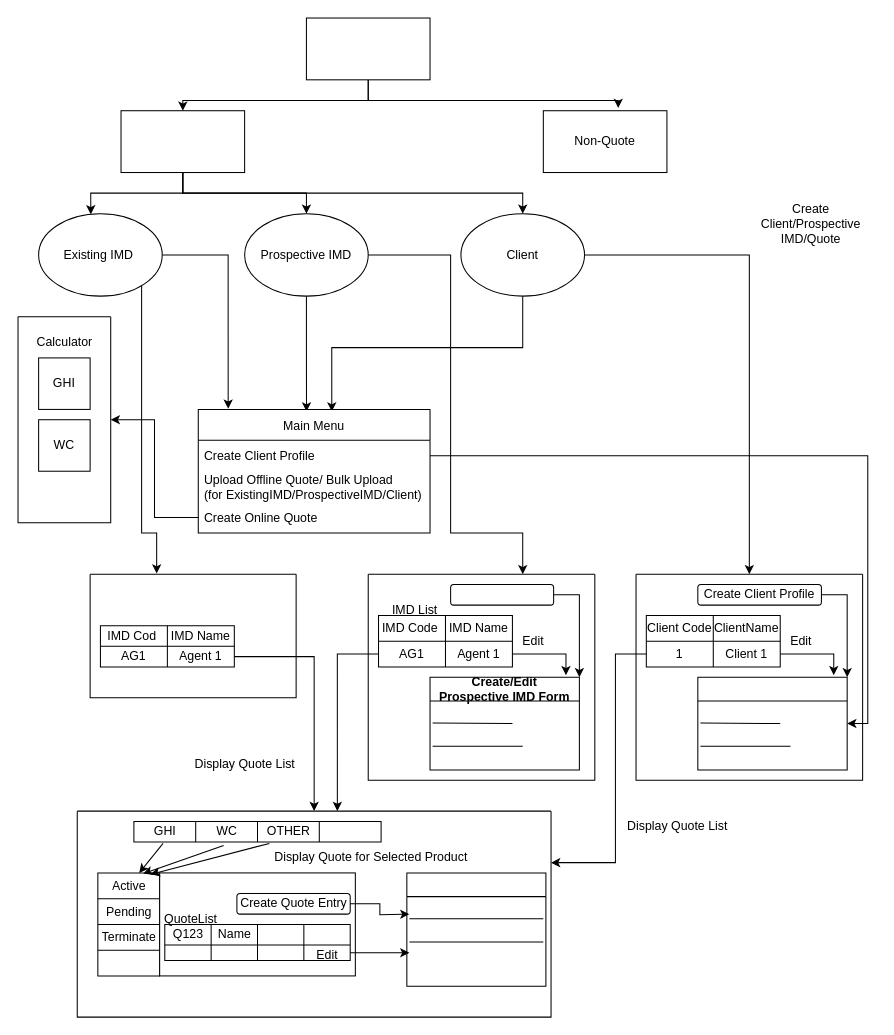
This 894x1035 diagram has some shape labels left out. The centre of each missing label's shape, as x and y in pixels:
"Create Profile" goes at (x=502, y=594).
"Create/Edit Client Form" goes at (x=772, y=723).
"Create/Edit Quote Form" goes at (x=476, y=929).
"Login" goes at (x=367, y=48).
"Open Market" goes at (x=182, y=141).
